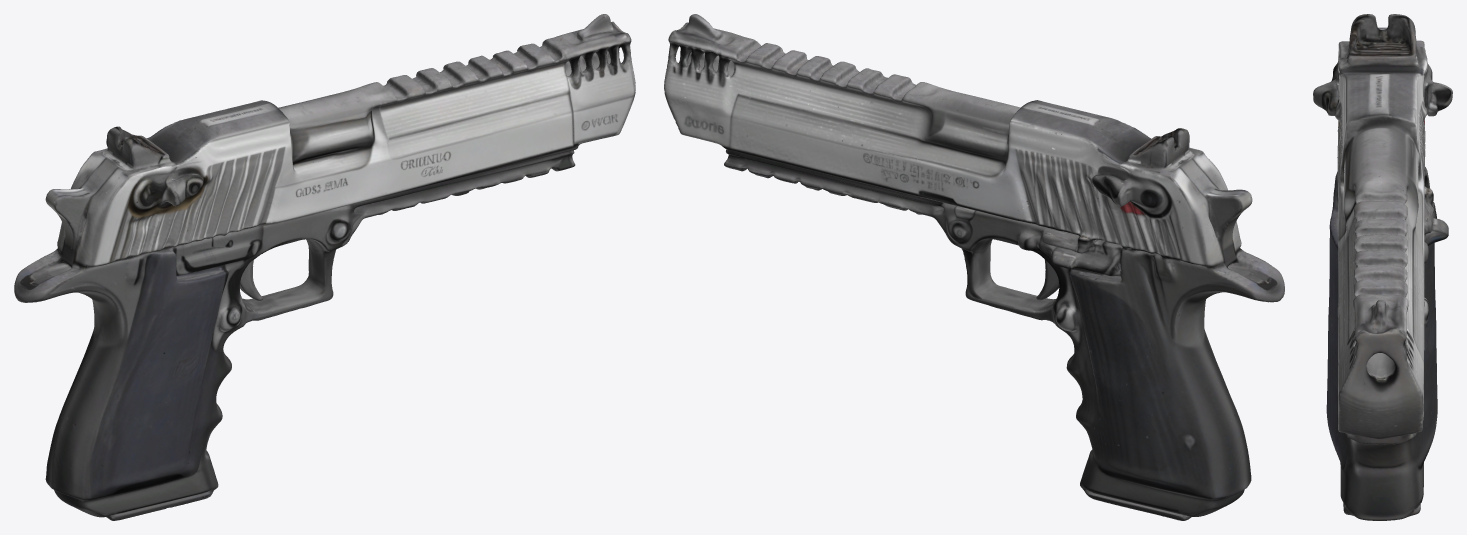
The model's file is pistol.gltf.
3 renders of one model, left to right at view 1: azimuth 30°, elevation 25°; view 2: azimuth 150°, elevation 25°; view 3: azimuth 270°, elevation 25°, orthographic. The views are drawn at different scales.
Visible parts, largest first — view 1: Desert_Eagle_Pistol_texture; view 2: Desert_Eagle_Pistol_texture; view 3: Desert_Eagle_Pistol_texture.
Boxes of the visible parts, <box> form: Desert_Eagle_Pistol_texture: <box>14,14,635,520</box>; Desert_Eagle_Pistol_texture: <box>664,14,1284,520</box>; Desert_Eagle_Pistol_texture: <box>1313,14,1452,520</box>.
Bounding box in the file's own units: 2.01 × 1.18 × 0.3262.
1 material, 1 textured.
